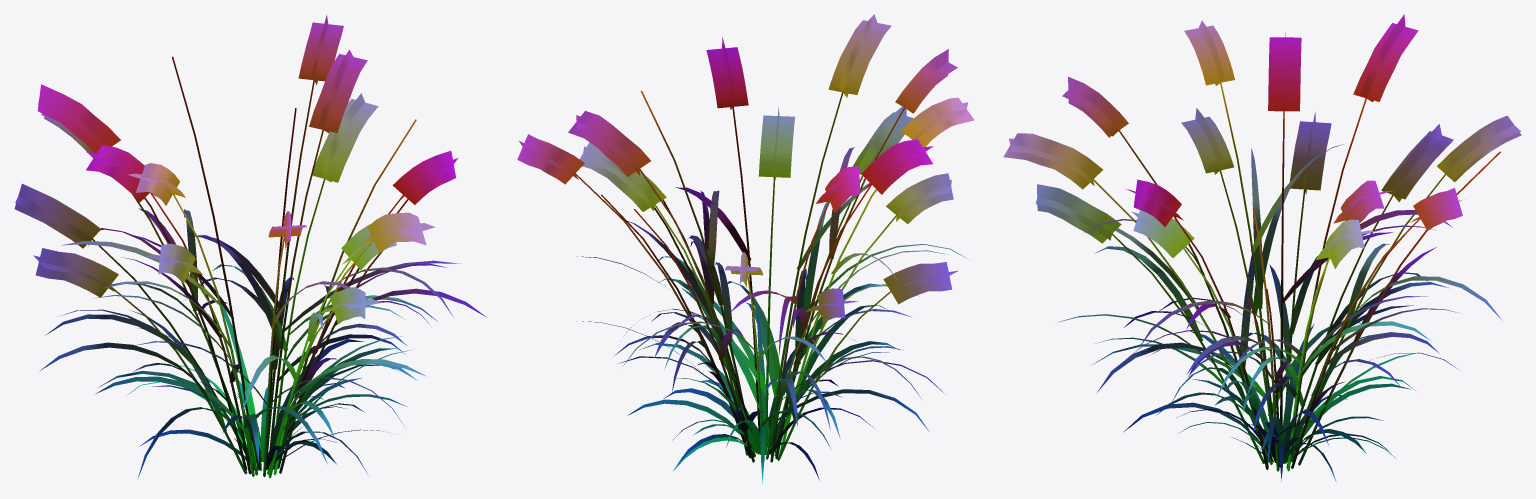
File: Grass_Barnyard_A_HD.fbx
The picture shows the model from 3 angles, left to right: view 1: azimuth 30°, elevation 25°; view 2: azimuth 150°, elevation 25°; view 3: azimuth 270°, elevation 25°; orthographic projection.
Visible parts, largest first — view 1: Grass_Barnyard_A_HD_LOD0; view 2: Grass_Barnyard_A_HD_LOD0; view 3: Grass_Barnyard_A_HD_LOD0.
Part boxes in pixels (x1,y1,x2,y2): Grass_Barnyard_A_HD_LOD0: (14,14,486,478); Grass_Barnyard_A_HD_LOD0: (517,14,974,483); Grass_Barnyard_A_HD_LOD0: (1003,14,1521,481).
Size of what is drawn, in the model's own units: 0.8949 by 0.8395 by 1.05.
